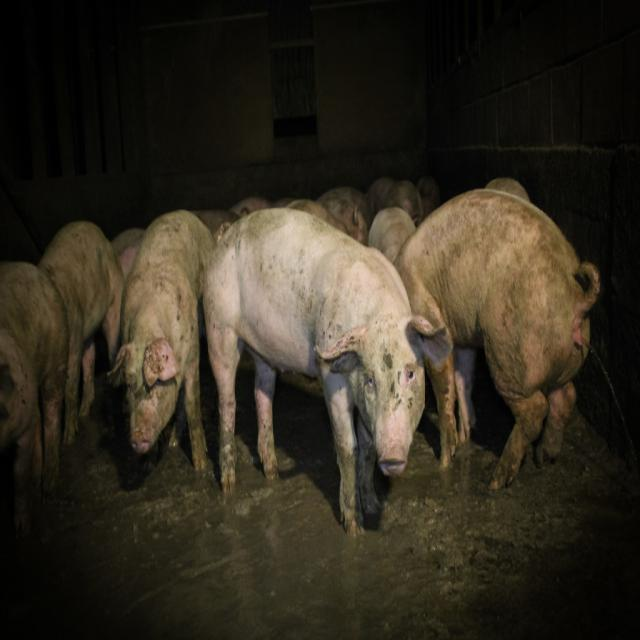Pig: (0, 179, 602, 542)
